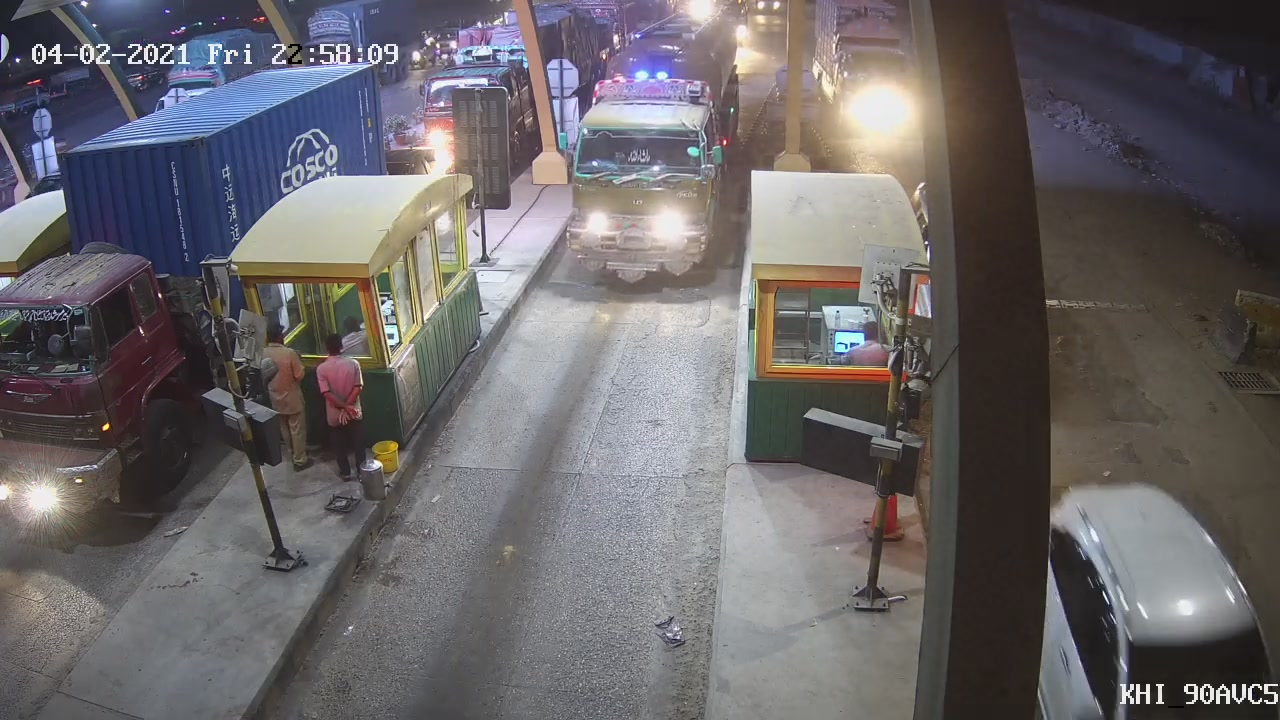F6: (555, 15, 740, 288)
